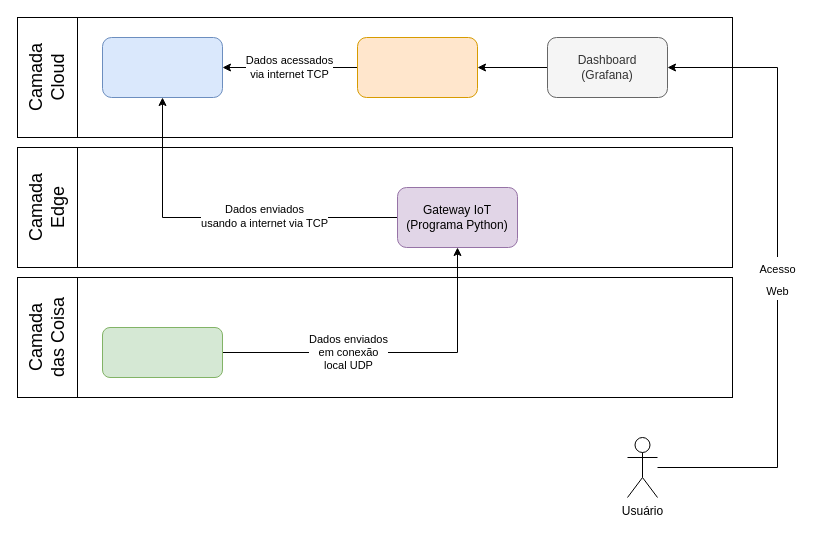
This 813x536 diagram has some shape labels left out. The box of each missing label's shape, as (x1, y1, x2, y2) in pixels:
API (FastAPI): (356, 36, 478, 98)
Dispositivo IoT (Celular): (102, 326, 222, 378)
Servidor MQTT (hivemq): (102, 36, 222, 98)
